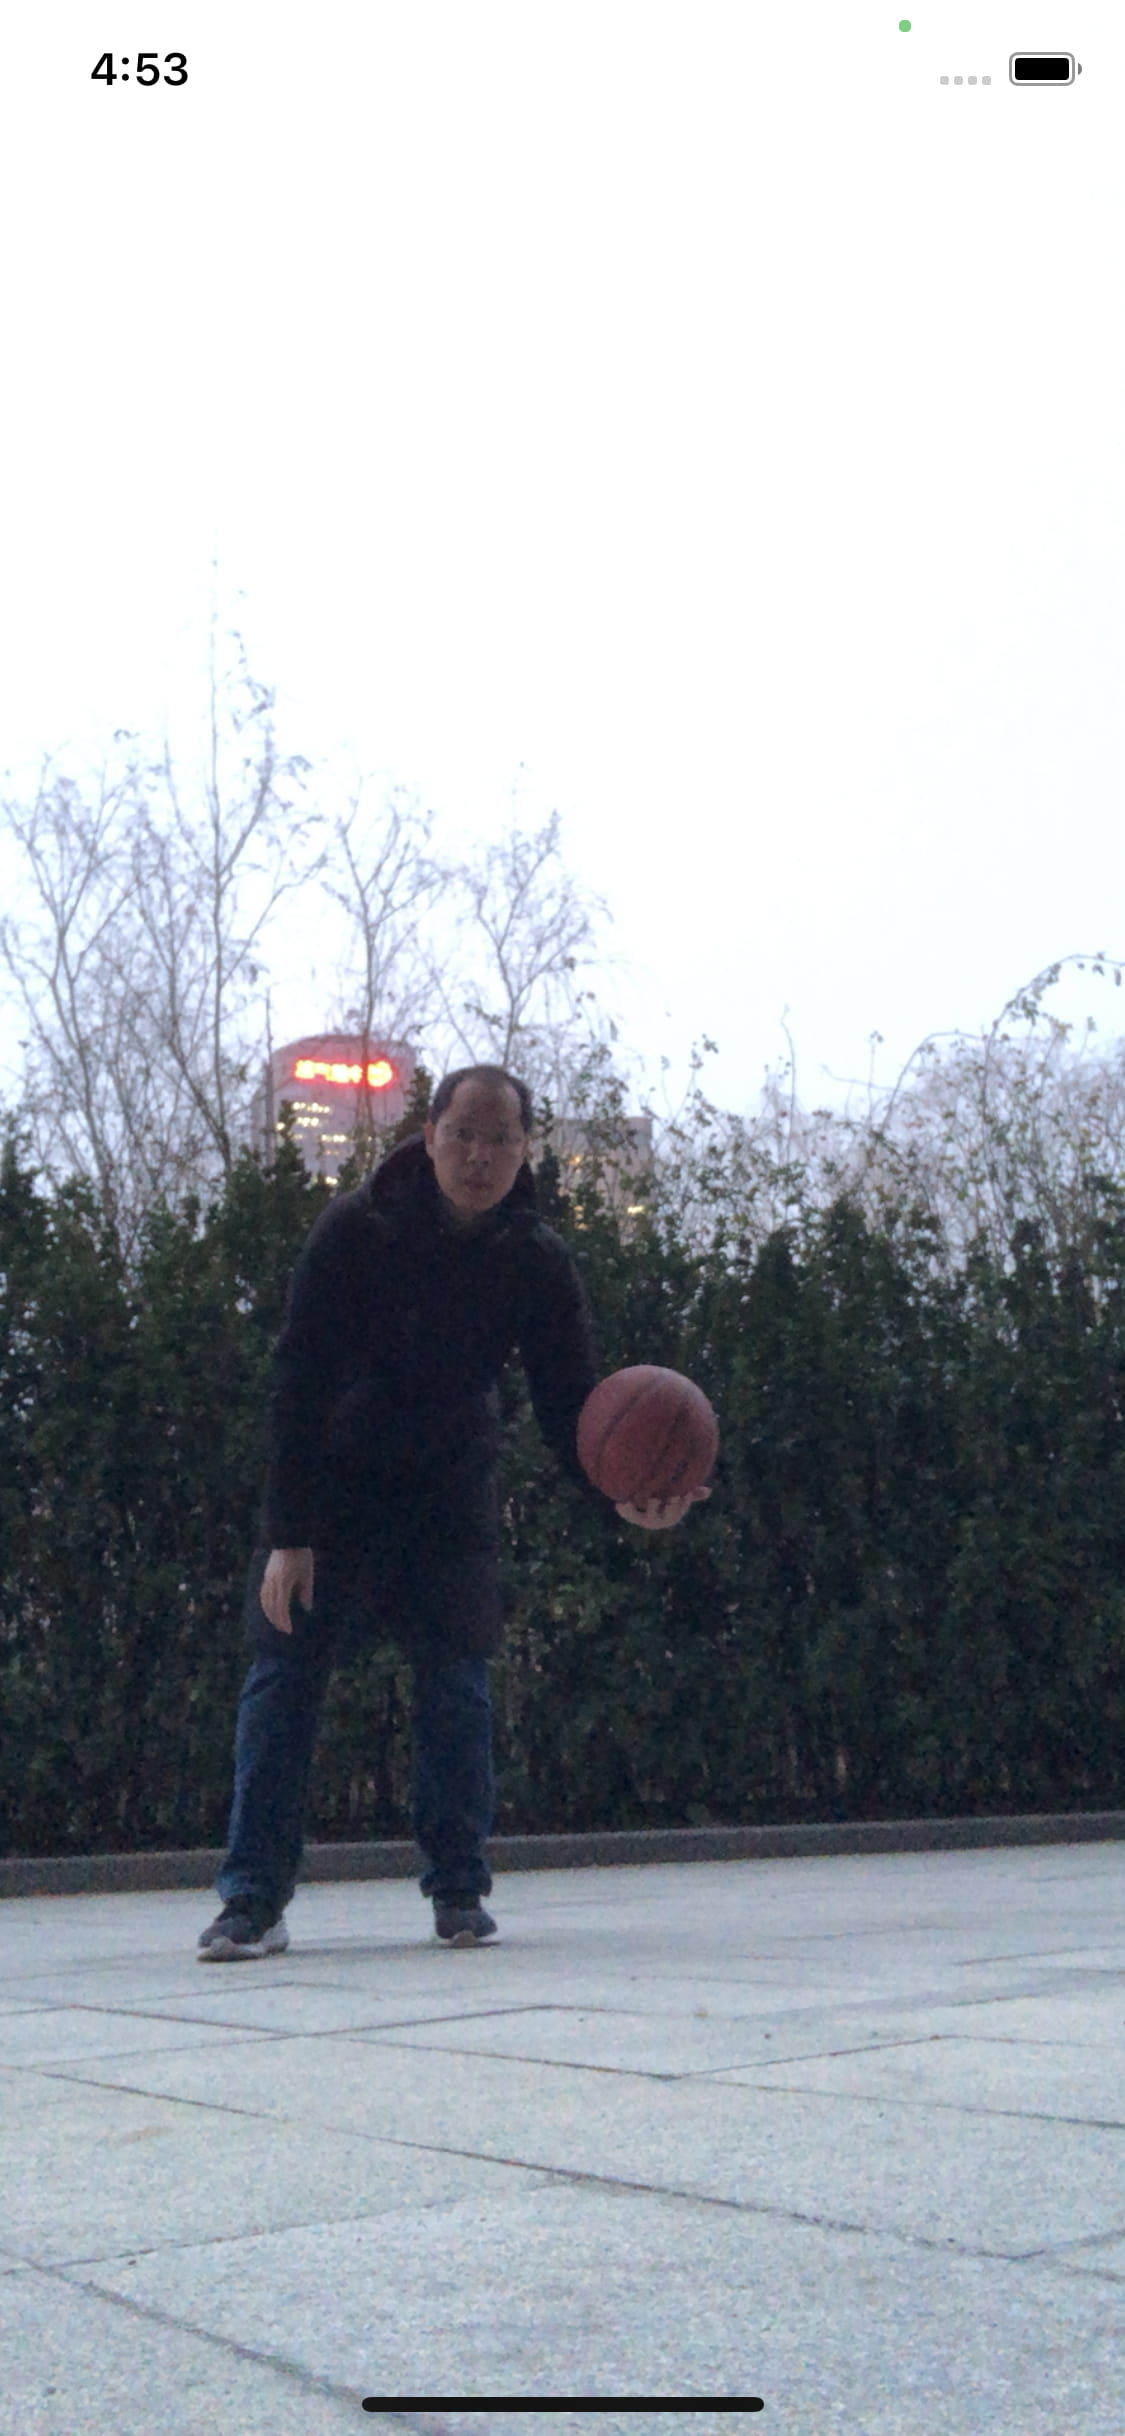ball: (580, 1359, 724, 1504)
